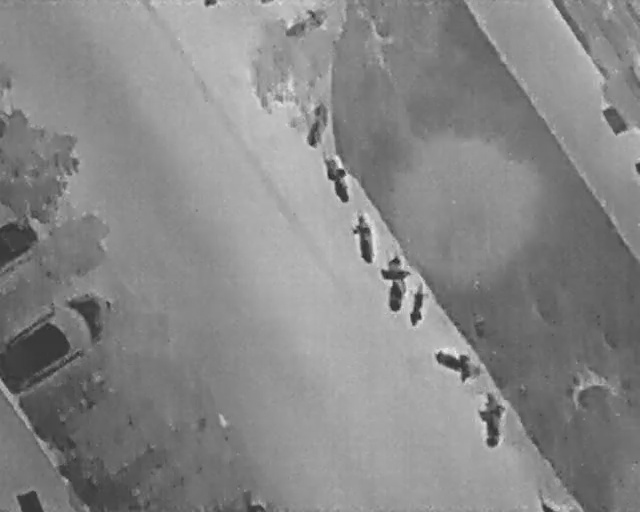Bicycle: (427, 341, 487, 388), (376, 253, 413, 315), (279, 2, 332, 44), (318, 150, 355, 207), (346, 209, 379, 266), (478, 390, 507, 449), (303, 101, 332, 153), (406, 278, 431, 331)
Car: (0, 288, 123, 394), (0, 218, 40, 274)
